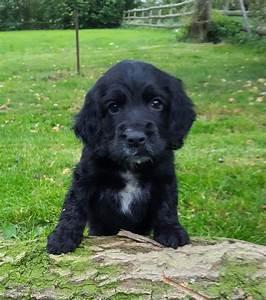dog: (45, 58, 197, 255)
